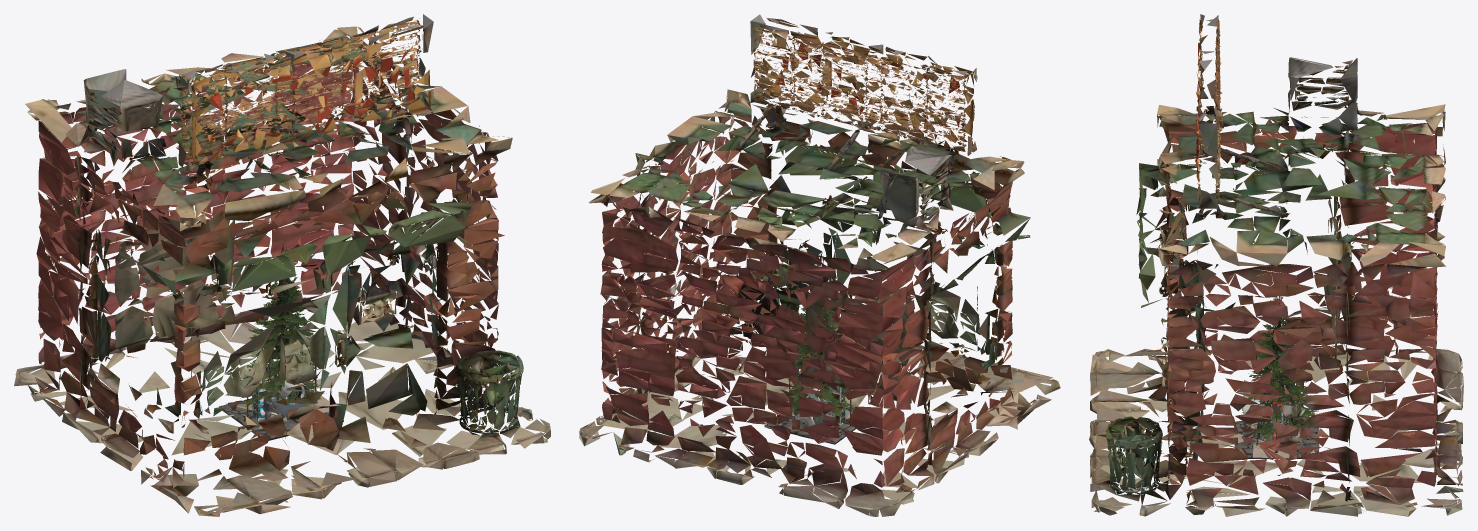
File: map2.glb
3 renders of one model, left to right at view 1: azimuth 30°, elevation 25°; view 2: azimuth 150°, elevation 25°; view 3: azimuth 270°, elevation 25°, orthographic. The views are drawn at different scales.
Parts seen in each view (by area): view 1: liquorstore, deadtree, cobblepatch; view 2: liquorstore, deadtree, cobblepatch; view 3: liquorstore, deadtree, cobblepatch.
Boxes of the visible parts, x1,y1,x2,y2 form: liquorstore: (14, 14, 550, 516); deadtree: (240, 238, 326, 406); cobblepatch: (219, 398, 343, 440); liquorstore: (579, 14, 1060, 516); deadtree: (781, 257, 855, 421); cobblepatch: (764, 406, 855, 444); liquorstore: (1089, 14, 1463, 516); deadtree: (1235, 296, 1318, 439); cobblepatch: (1234, 421, 1319, 458).
Bounding box in the file's own units: 13.29 × 14 × 12.95.
18 materials, 18 textured.
